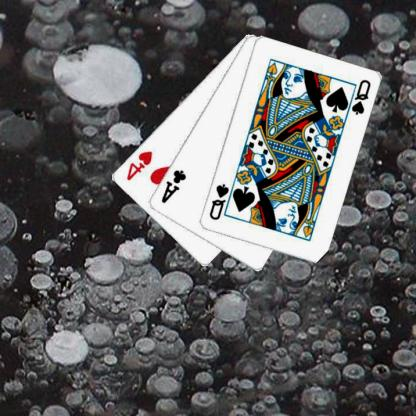4H: (125, 148, 155, 182)
AC: (160, 168, 189, 204)
QS: (350, 77, 374, 116), (208, 182, 231, 222)
